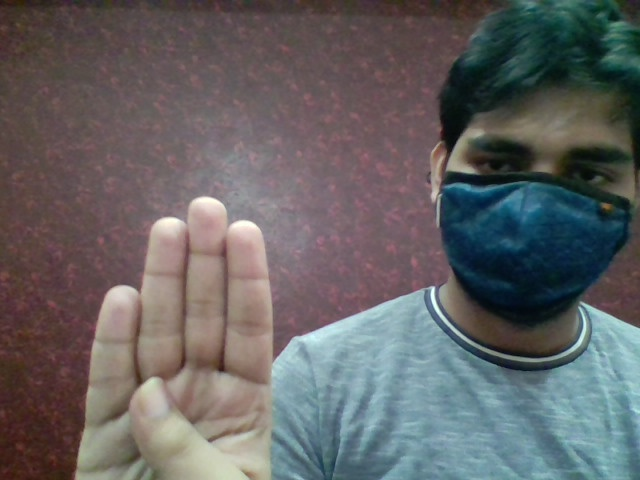b: (69, 189, 293, 480)
